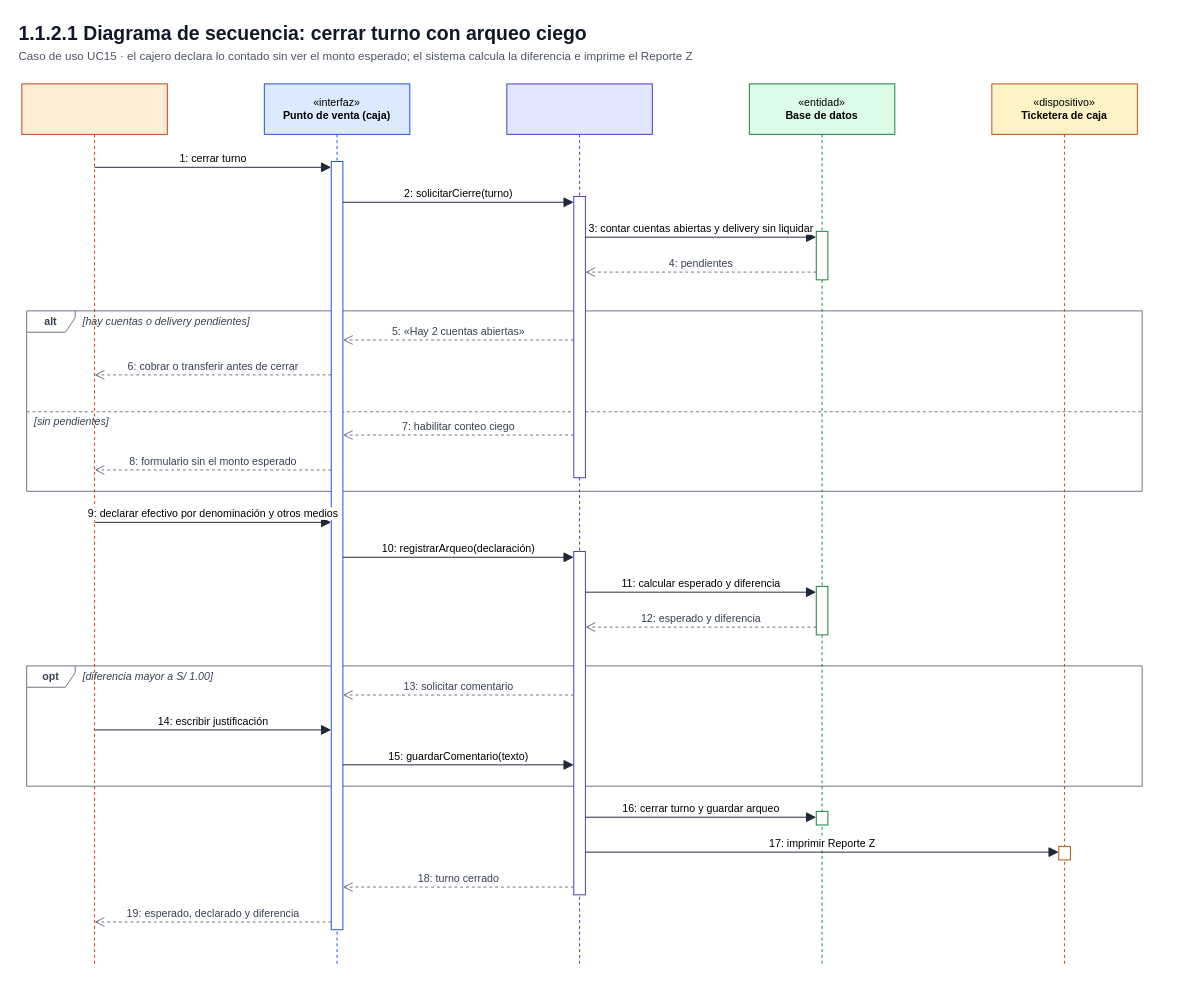
Some shapes in this 1197 by 984 pixel diagram are drawn without their labels. Here are the shapes that lost their labels. From the top down, the box of each, then its label:
(21, 83, 167, 967): «actor» Cajero(a)
(506, 83, 652, 967): «control» API del servidor local
